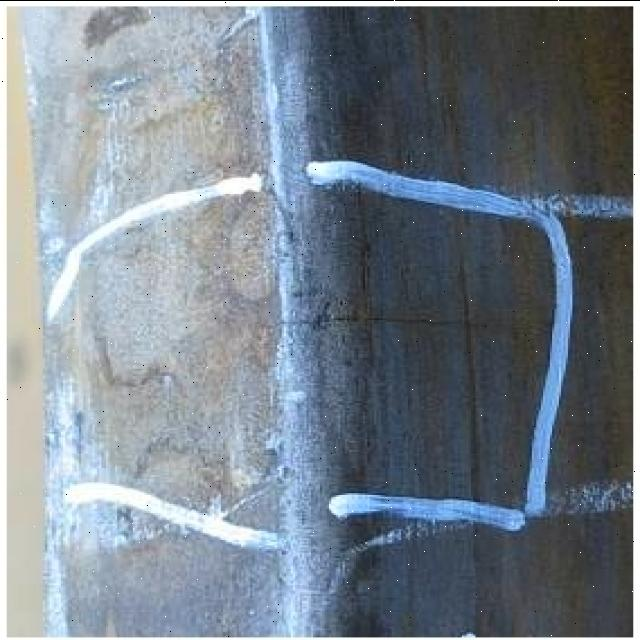hot crack: (256, 304, 490, 342)
